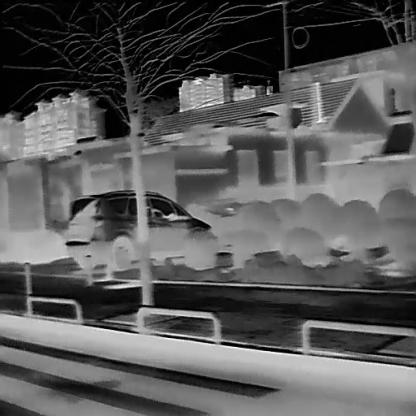car: (64, 188, 217, 270)
